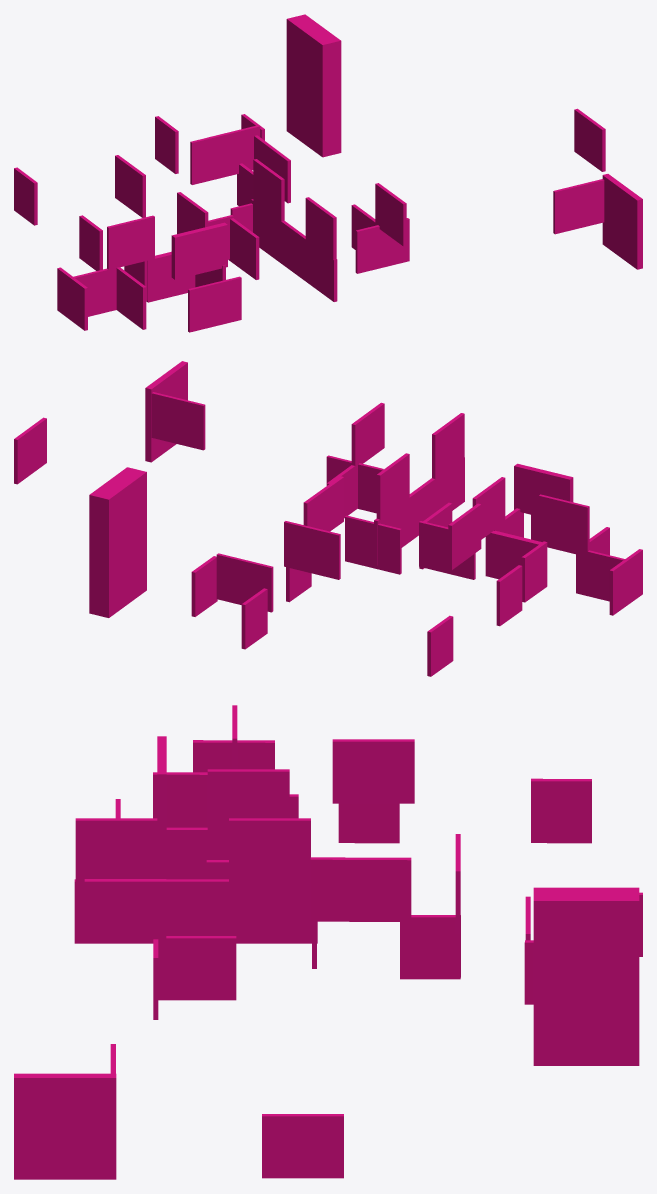
3 renders of one model, top to bottom at view 1: azimuth 30°, elevation 25°; view 2: azimuth 150°, elevation 25°; view 3: azimuth 270°, elevation 25°, orthographic. The views are drawn at different scales.
Parts seen in each view (by area): view 1: Cube.071; view 2: Cube.071; view 3: Cube.071.
Boxes of the visible parts, box(x1,y1,x2,y2) form: Cube.071: box(14, 14, 642, 332); Cube.071: box(14, 361, 642, 676); Cube.071: box(14, 705, 642, 1179).
Bounding box in the file's own units: 6794 × 1536 × 4627.
